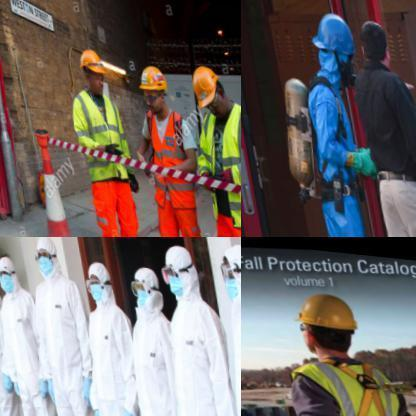vest: (26, 269, 115, 415), (292, 58, 367, 211), (276, 339, 415, 415), (77, 292, 162, 415), (159, 289, 240, 415), (123, 299, 207, 415), (0, 287, 62, 415), (63, 77, 131, 181), (186, 100, 240, 222), (138, 97, 190, 182), (0, 287, 28, 415)
